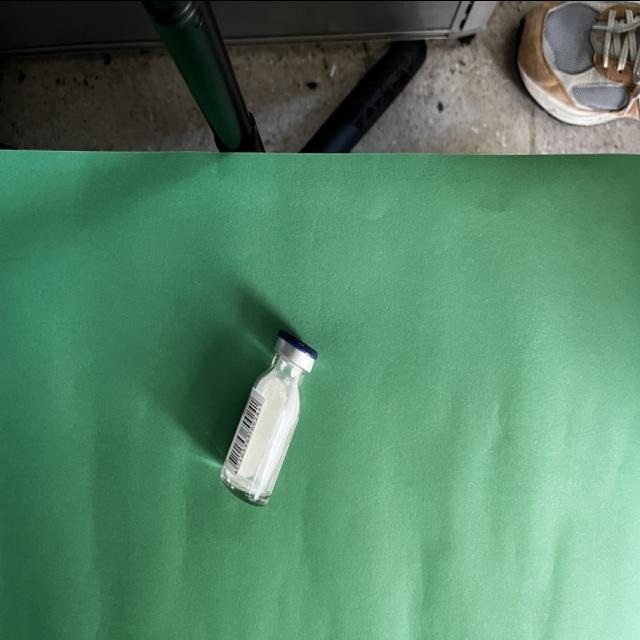Vials: (220, 329, 318, 506)
